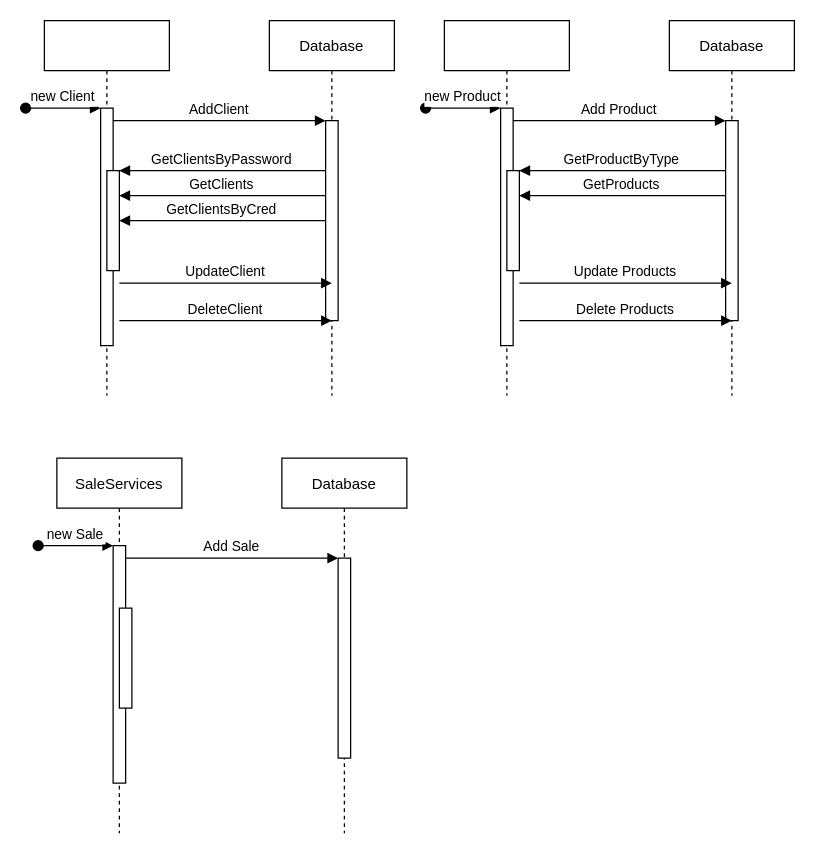
This 815x854 diagram has some shape labels left out. Here are the shapes that lost their labels. From the top down, the box of each, then its label:
(43, 19, 169, 396): ClientServices
(443, 19, 569, 396): ProductServices
